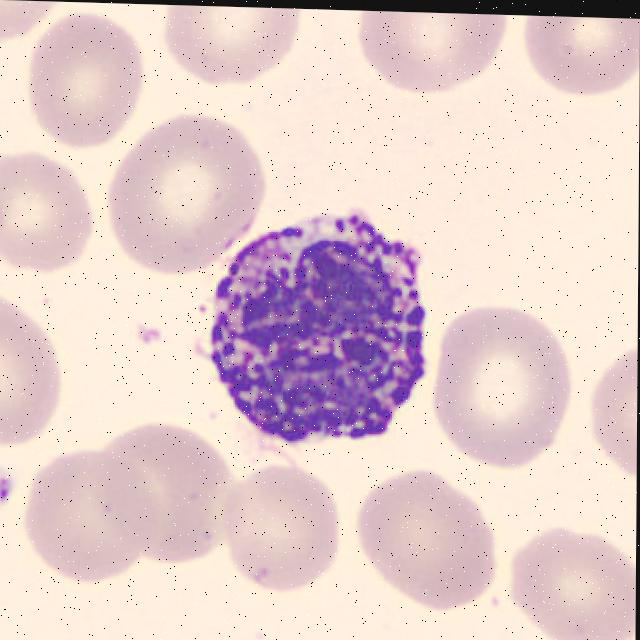basophil: (211, 212, 438, 449)
rbc: (105, 115, 272, 271), (431, 319, 568, 464), (26, 449, 172, 580), (360, 471, 503, 602), (352, 11, 526, 115), (24, 18, 140, 151), (229, 472, 347, 598), (115, 447, 243, 562), (514, 525, 636, 640), (0, 148, 94, 280), (165, 5, 316, 86), (527, 16, 640, 110), (0, 292, 59, 454), (588, 338, 638, 474)
